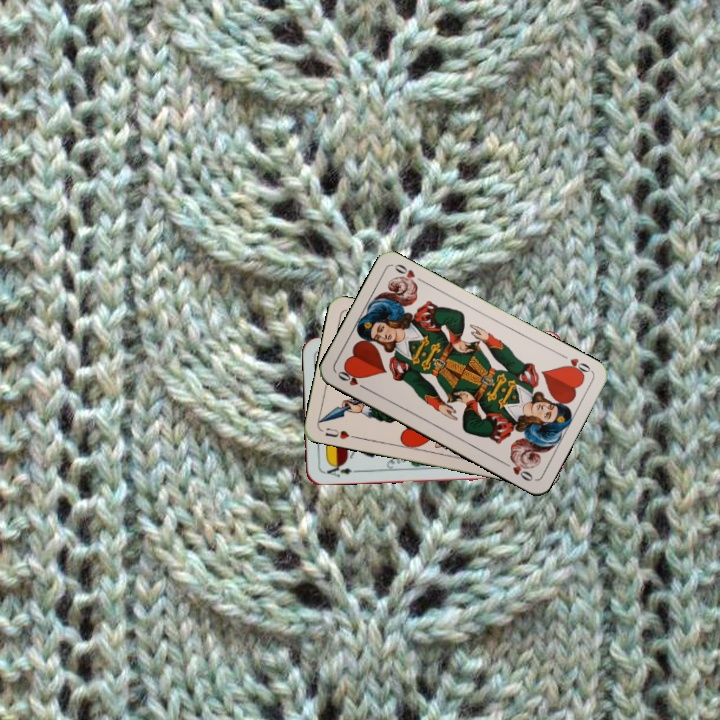EA: (320, 460, 361, 480)
HO: (557, 350, 594, 379), (333, 366, 370, 393)
HU: (321, 423, 358, 442)
